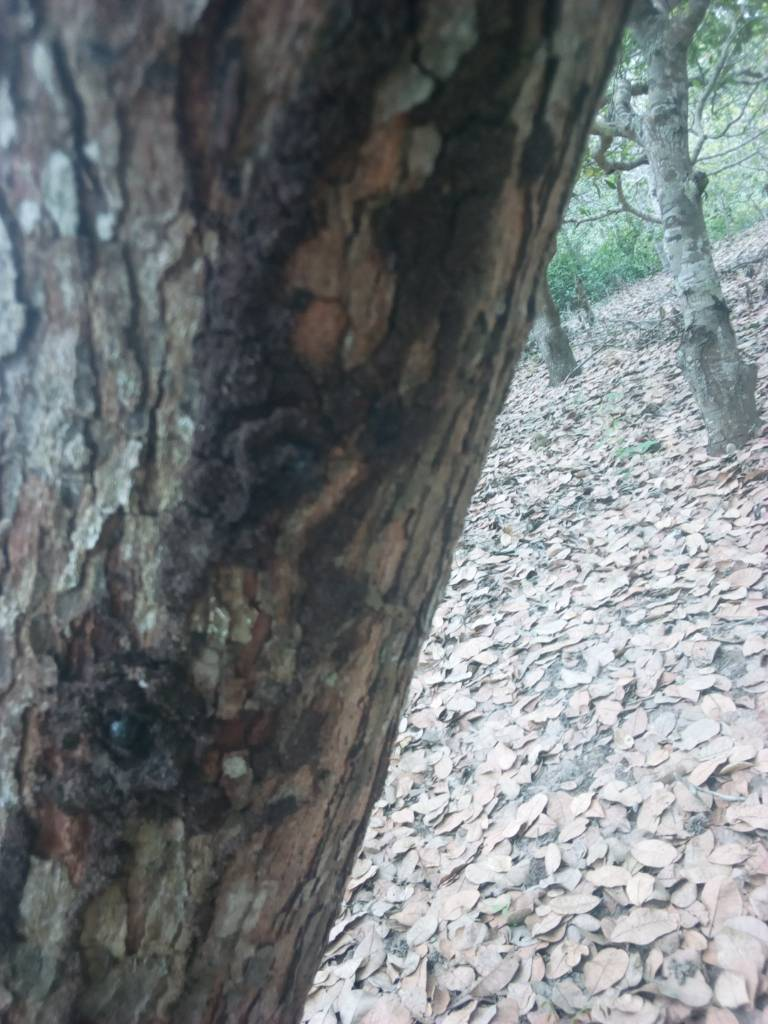Termites: (57, 19, 530, 878)
